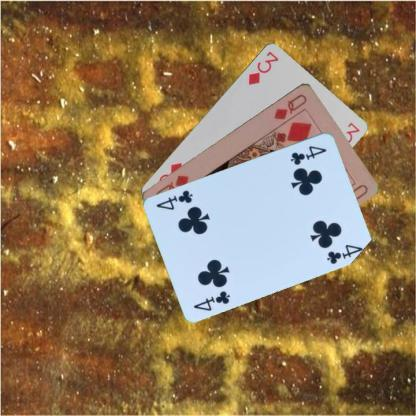3d: (245, 48, 280, 86)
4c: (190, 288, 232, 312), (288, 143, 328, 166)
Qd: (271, 90, 309, 120)
